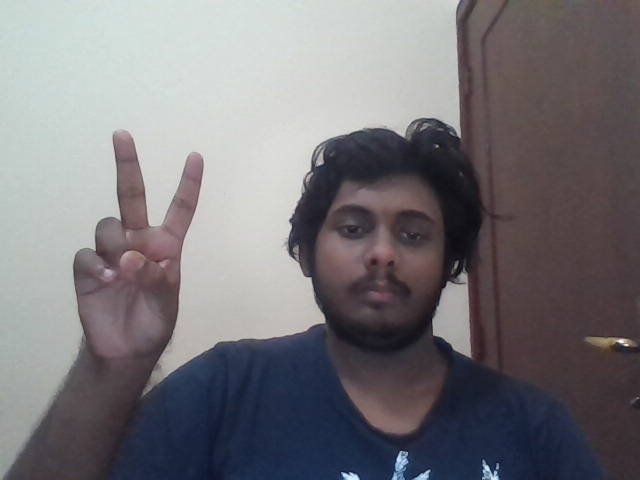peace: (72, 129, 205, 360)
